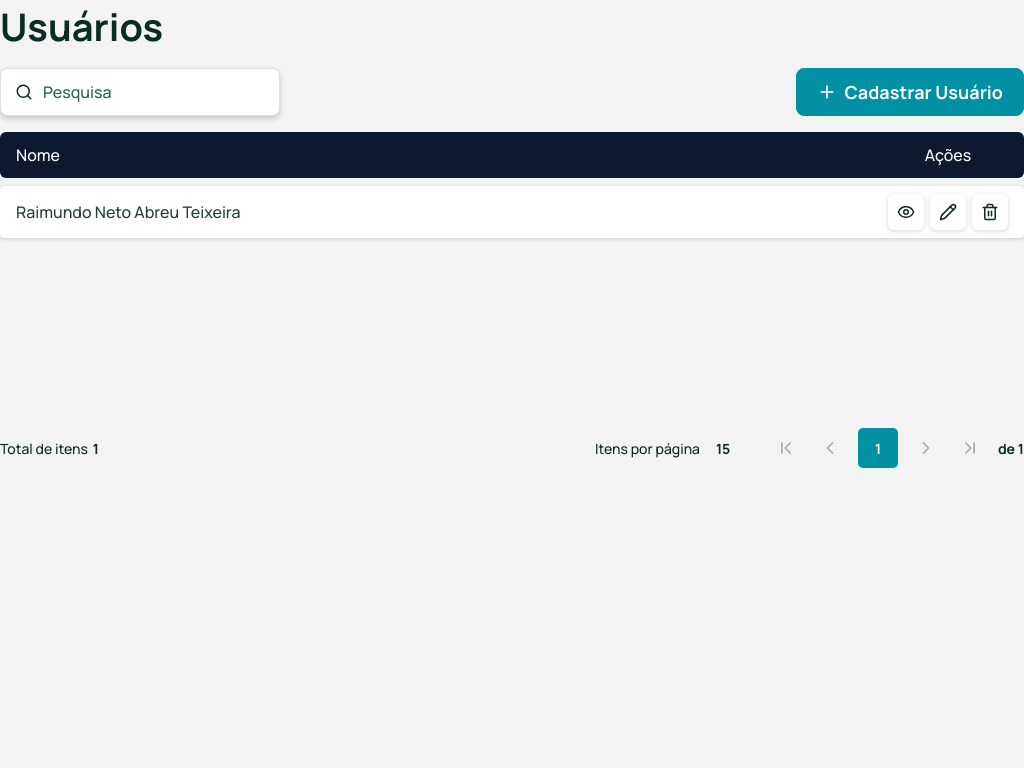
Test case: UsersPage › abre a visualização do usuário em um painel lateral
The width and height of the screenshot is (1024, 768).
Click the button named "Visualizar Raimundo Neto Abreu Teixeira". click: {"x": 906, "y": 212}
box: top-left (888, 194), bottom-right (924, 230)
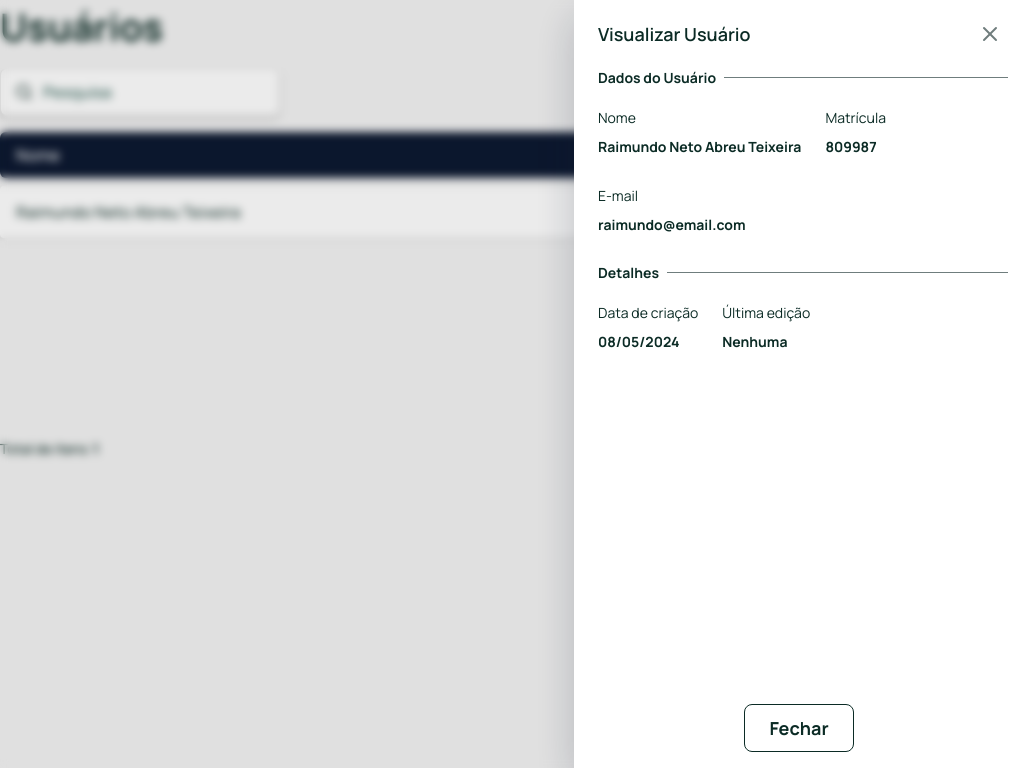
Result: the text "raimundo@email.com" is shown at top-left (598, 215), bottom-right (746, 234)
Result: the text "809987" is shown at top-left (825, 137), bottom-right (877, 156)
Result: the text "Nenhuma" is shown at top-left (722, 332), bottom-right (788, 351)
Click the button "Fechar". click: {"x": 799, "y": 728}
box: top-left (744, 704), bottom-right (854, 752)
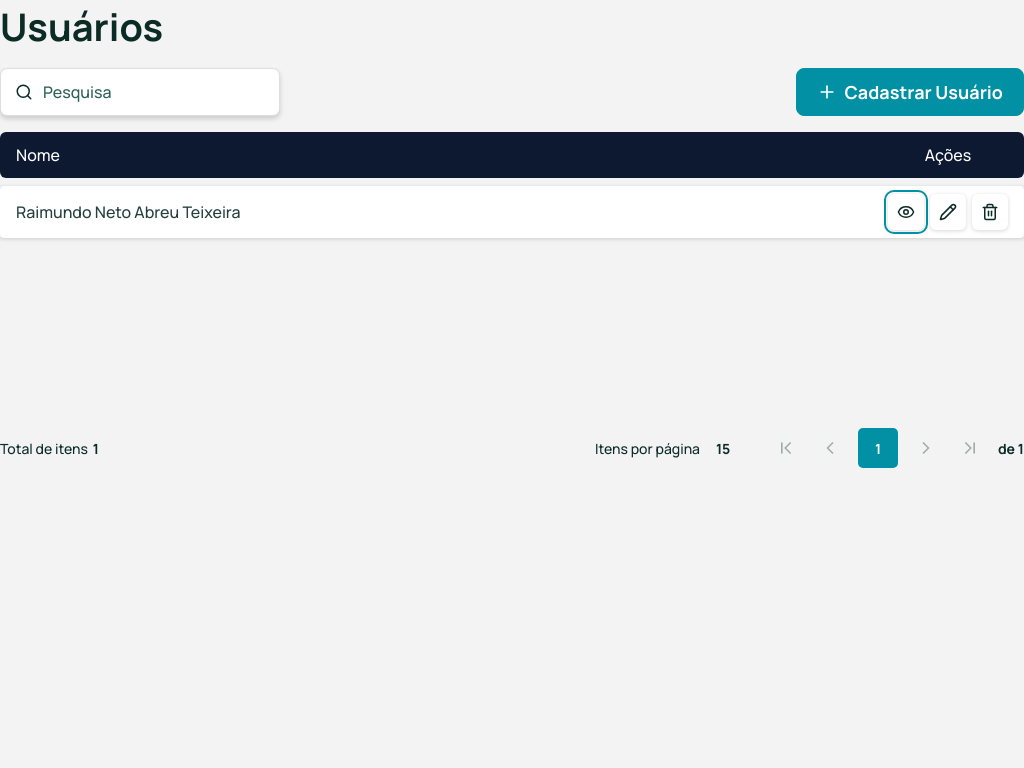
Result: the dialog is gone
